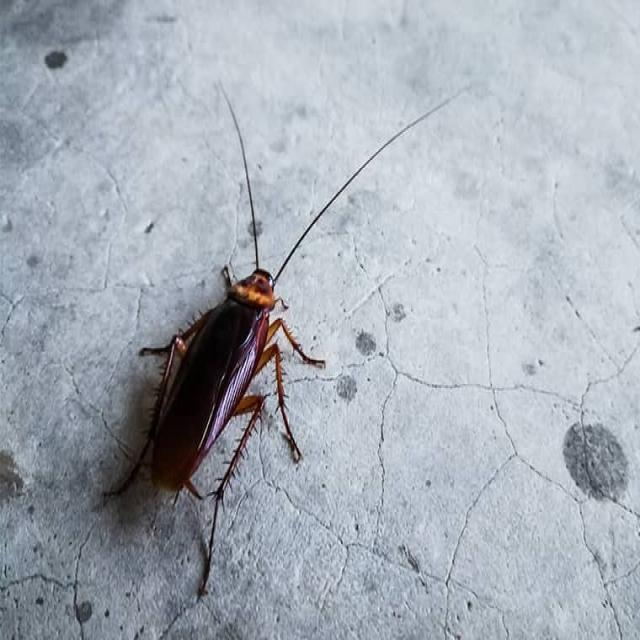Cockroach: (118, 243, 323, 564)
